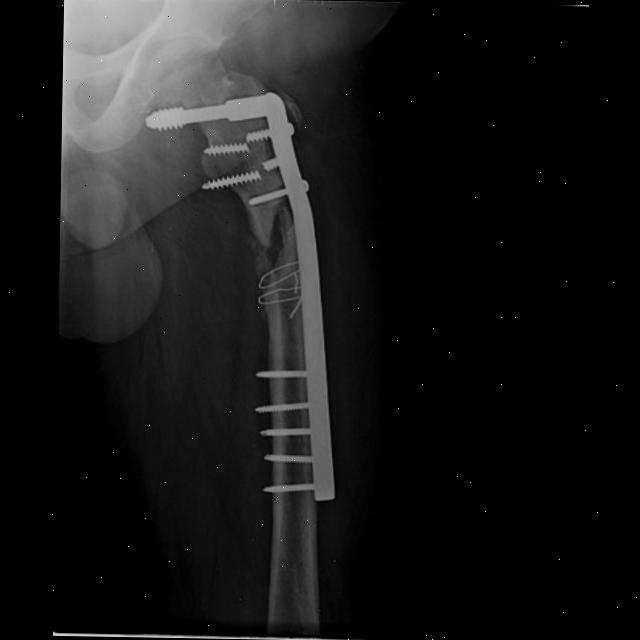Fracture: (249, 196, 298, 323)
